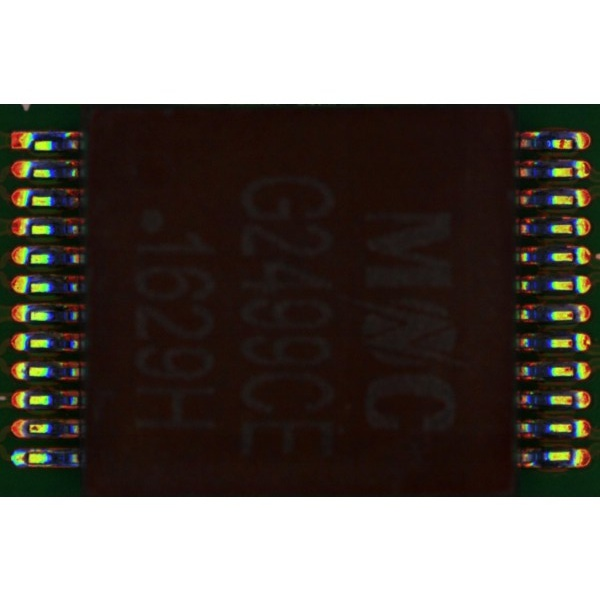Bad_qiaojiao: (28, 447, 62, 452), (28, 462, 58, 467)
